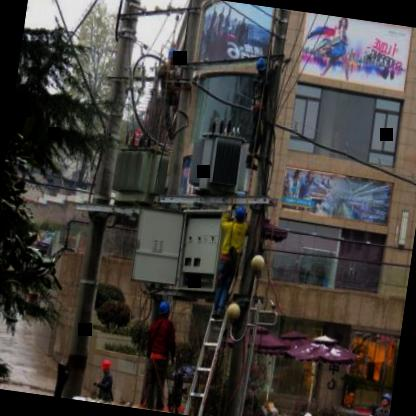helmet: (252, 50, 270, 78), (228, 204, 247, 228), (156, 297, 174, 322), (166, 44, 182, 69), (98, 356, 115, 378), (378, 390, 392, 411)
